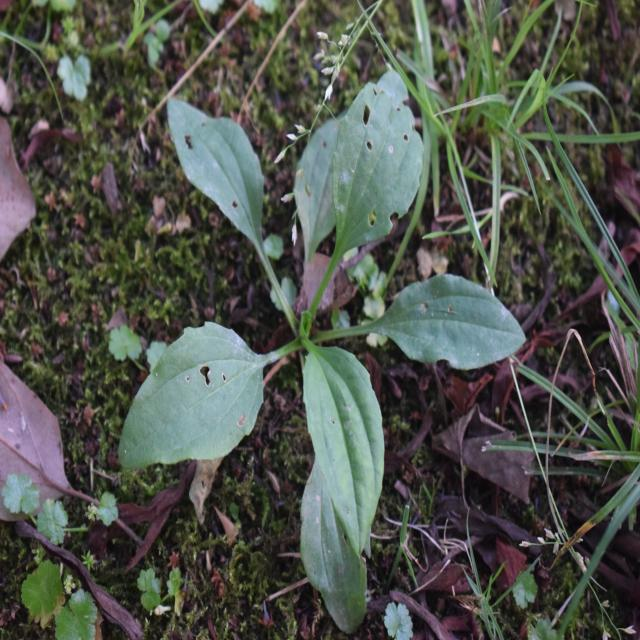plantain: (126, 57, 510, 574)
